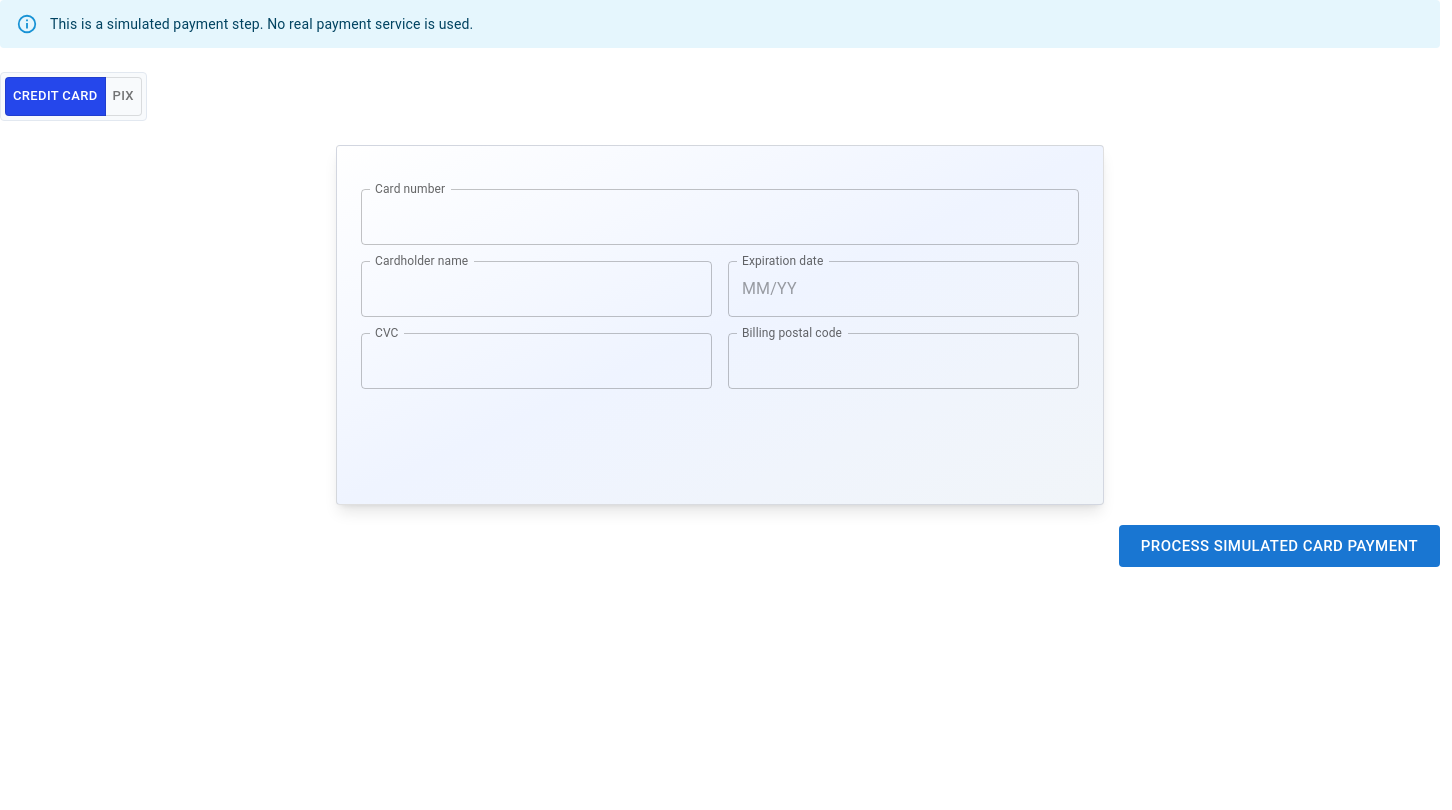
Scenario: payment UI › validates and processes the simulated card form
Click the button "Process simulated card payment" at x=1279, y=546, box x1=1119 y1=525 x2=1440 y2=567
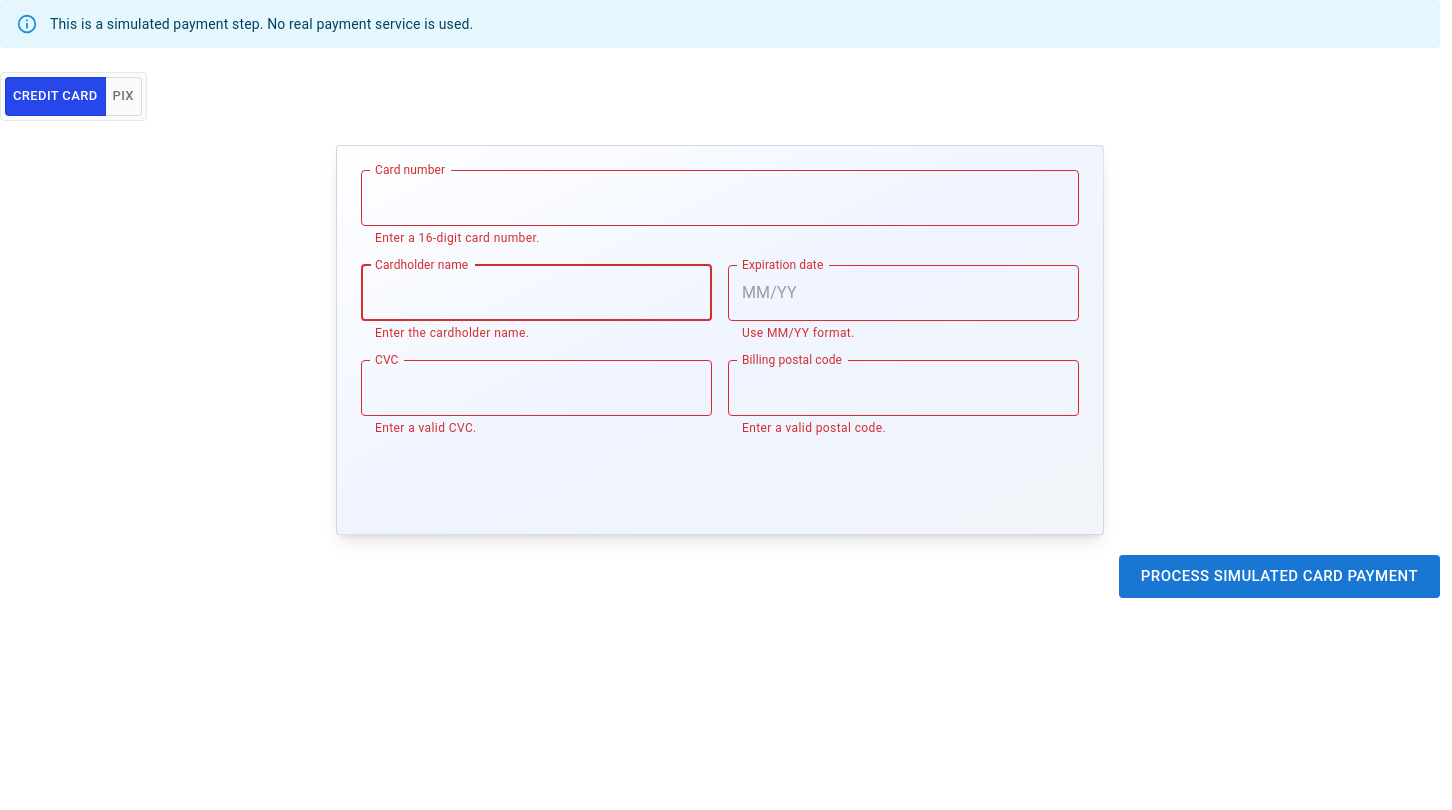
Result: the text "Enter the cardholder name." is shown at x1=375 y1=326 x2=529 y2=340
Type "Alex Test 123!" into the field labelled "Cardholder name" at x=536, y=293, box x1=361 y1=265 x2=712 y2=321
Type "4111abc111111111111999" into the field labelled "Card number" at x=720, y=198, box x1=361 y1=170 x2=1079 y2=226
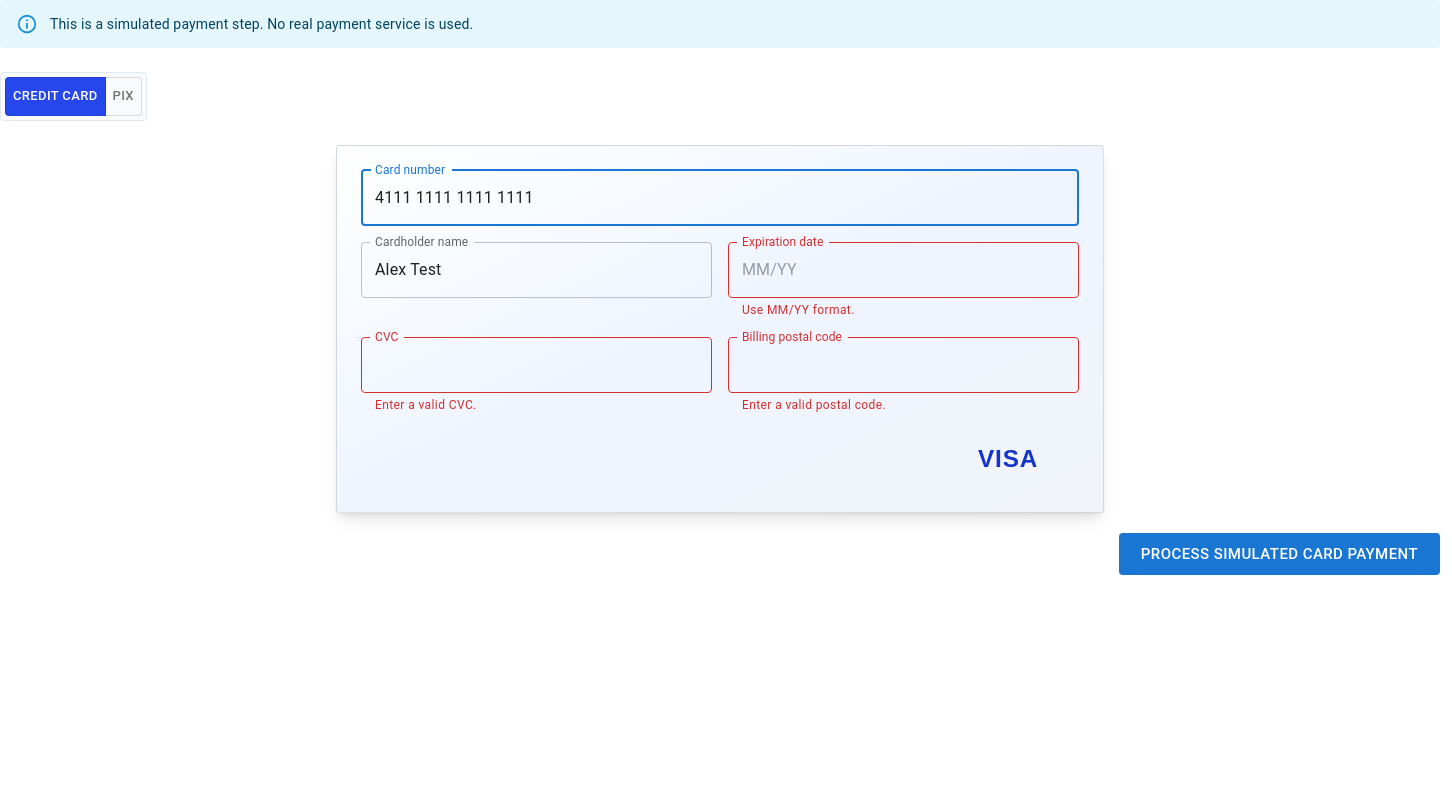
Type "123599" into the field labelled "Expiration date" at x=904, y=270, box x1=728 y1=242 x2=1079 y2=298
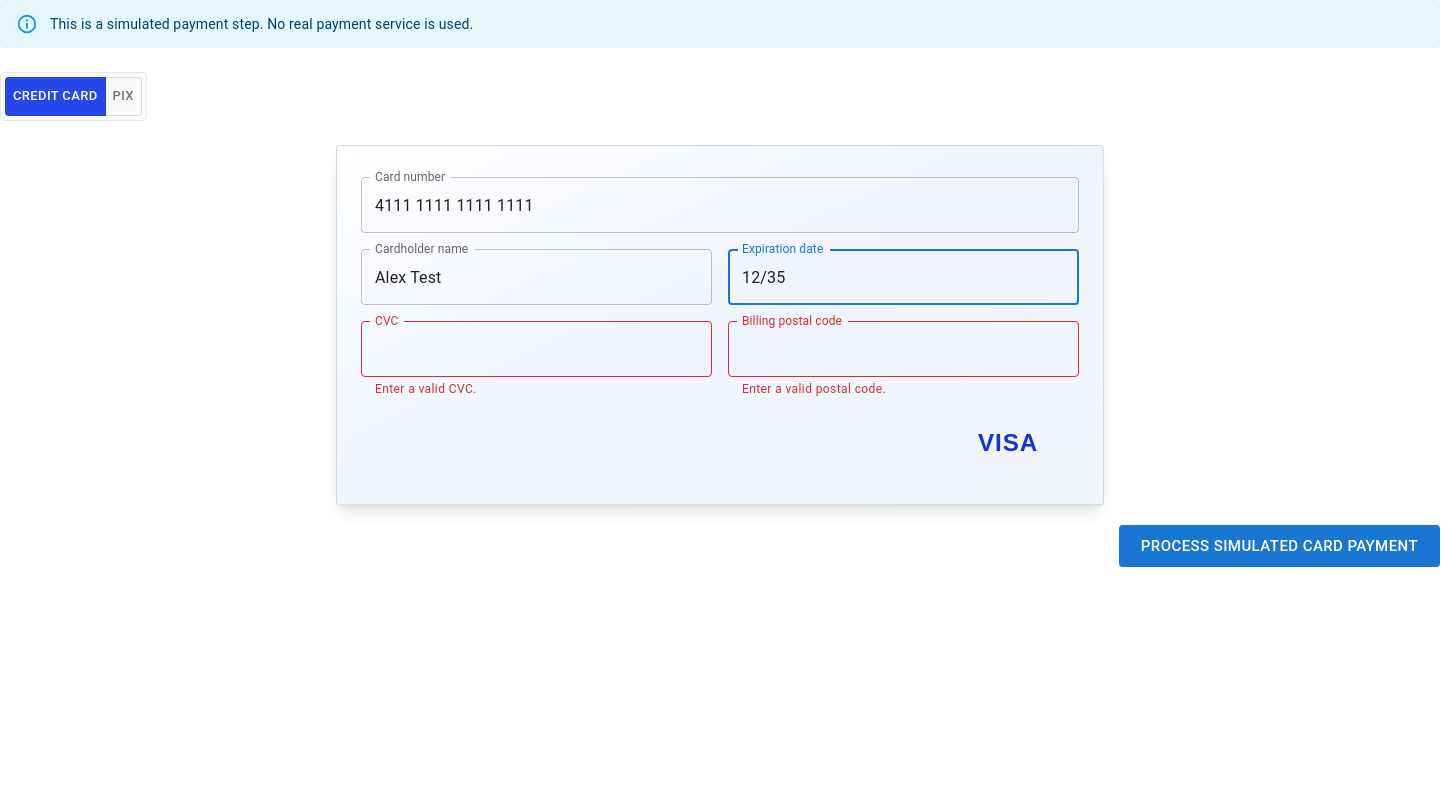
Type "1234abc" into the password field labelled "CVC" at x=536, y=349, box x1=361 y1=321 x2=712 y2=377
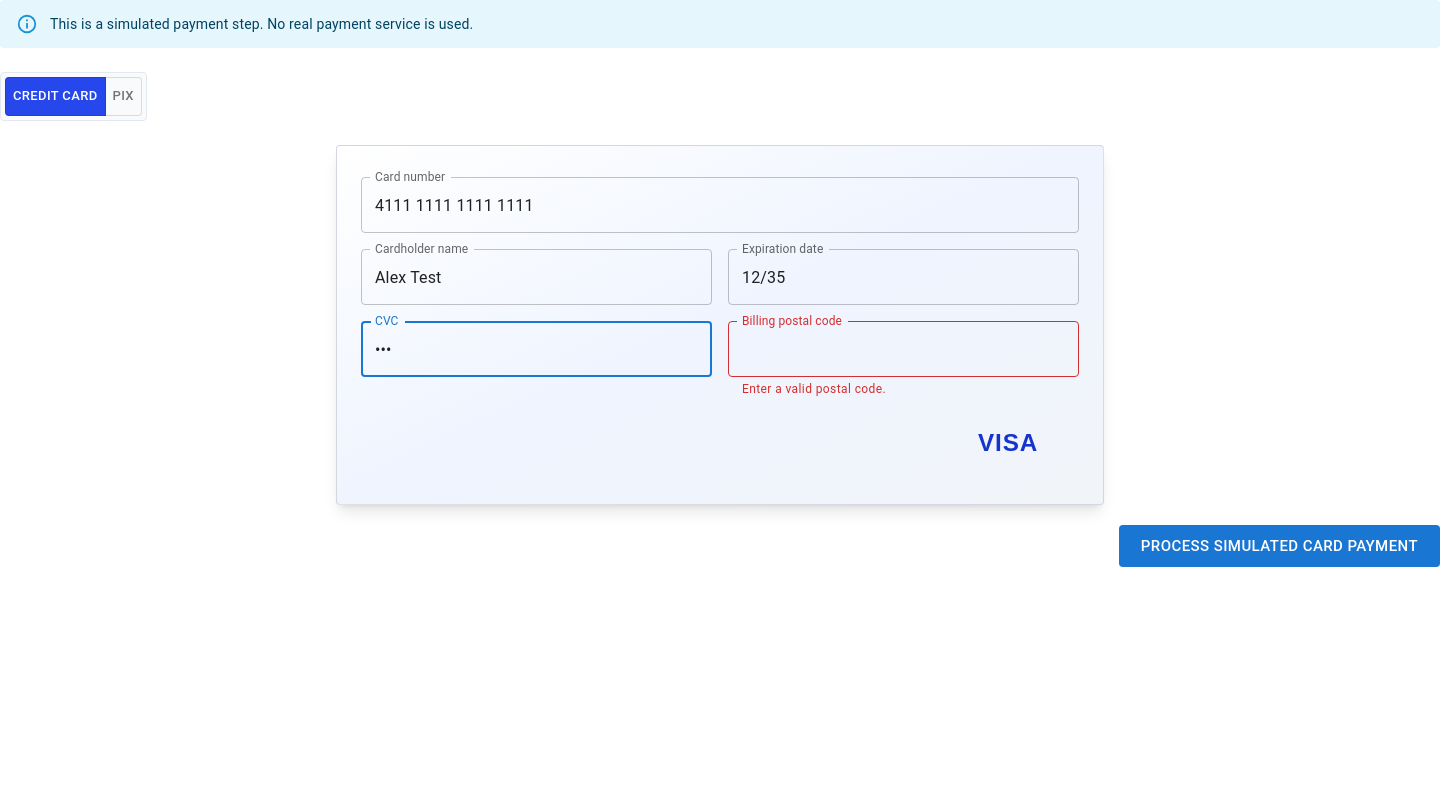
Type "10001" into the field labelled "Billing postal code" at x=904, y=349, box x1=728 y1=321 x2=1079 y2=377
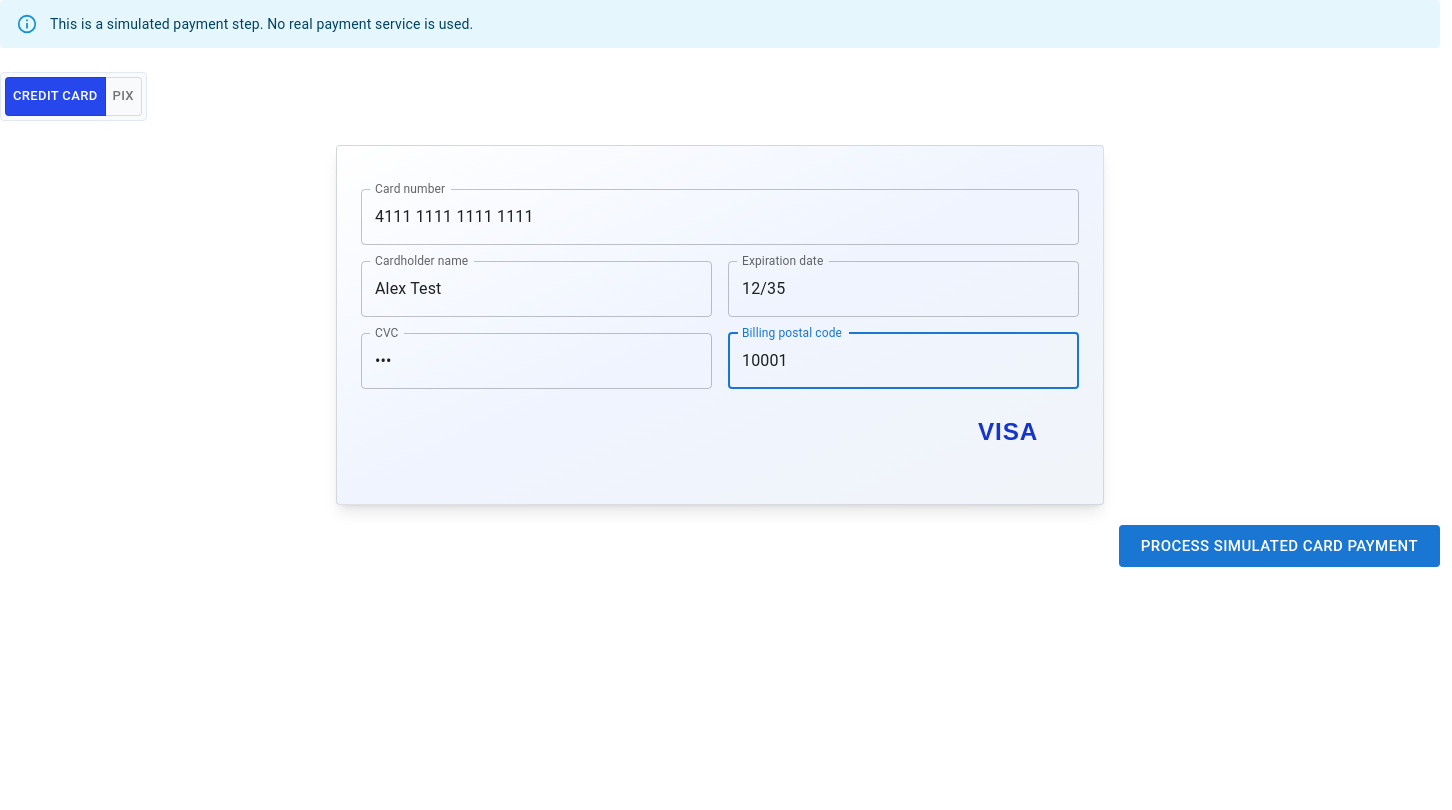
Result: the field labelled "Cardholder name" holds "Alex Test " at x1=361 y1=261 x2=712 y2=317
Result: the field labelled "Card number" holds "4111 1111 1111 1111" at x1=361 y1=189 x2=1079 y2=245
Result: the field labelled "Expiration date" holds "12/35" at x1=728 y1=261 x2=1079 y2=317
Click the button "Process simulated card payment" at x=1279, y=546, box x1=1119 y1=525 x2=1440 y2=567
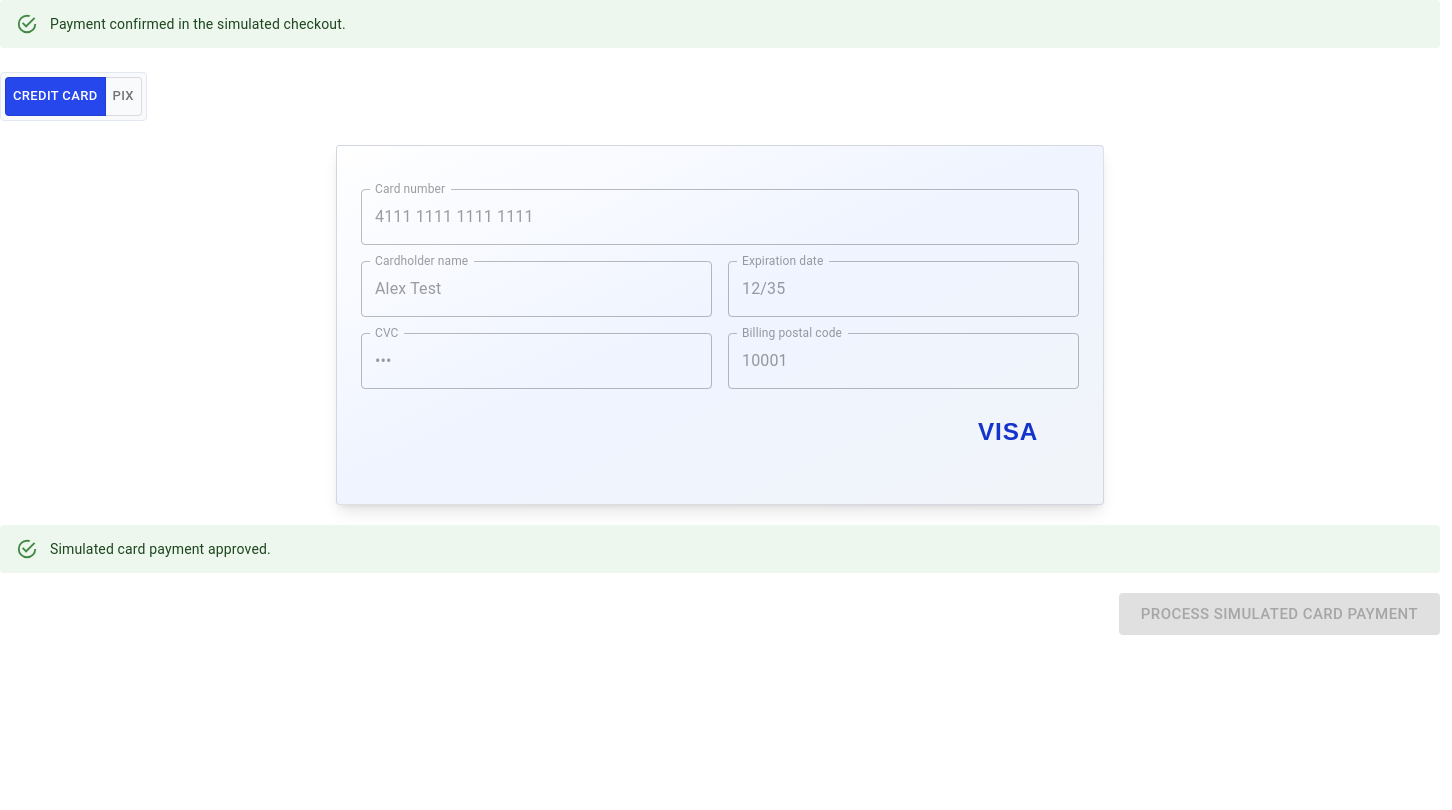
Result: the text "Simulated card payment approved." is shown at x1=50 y1=541 x2=271 y2=557
